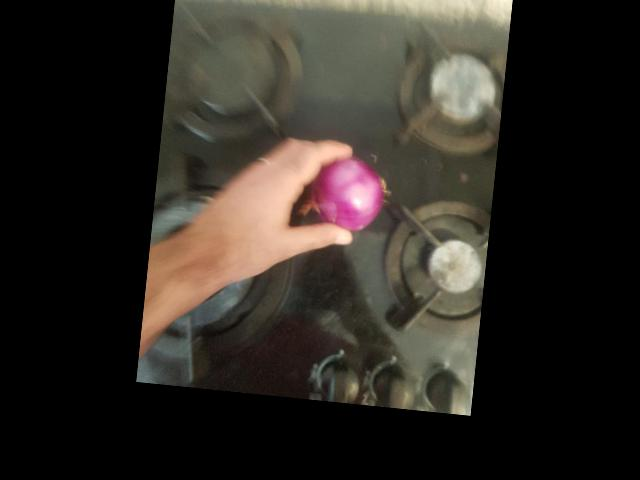onion: (365, 67, 433, 139)
